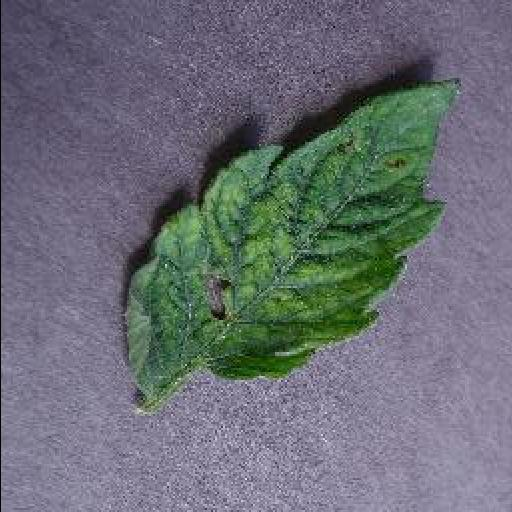Mosaic Virus: (121, 78, 471, 400)
